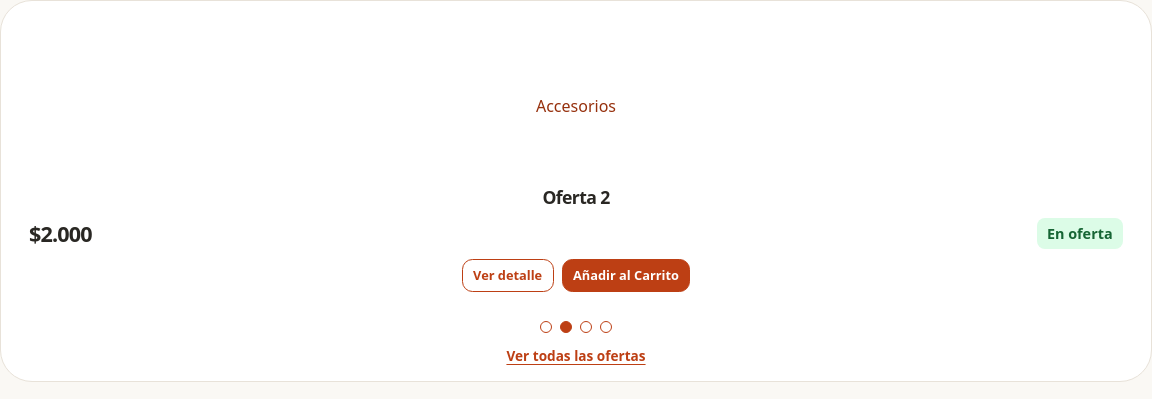
it: recorre todas las ofertas, vuelve al inicio y permite elegir una
Expected: the heading "Oferta 2" is shown, [542, 186, 610, 210]
Step 1. Click the button named "Ver oferta 4" → (606,327), box [600, 321, 612, 333]
Wait 4000 ms
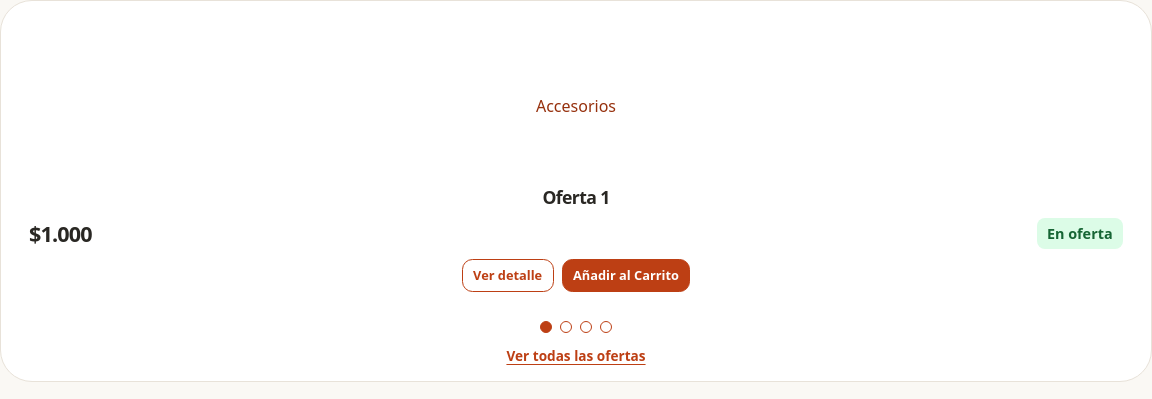
Result: the heading "Oferta 1" is shown at [542, 186, 610, 210]
